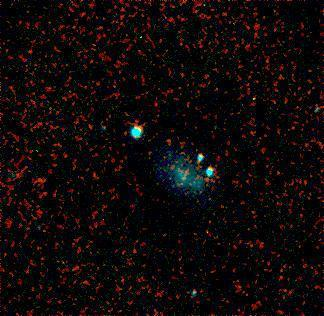star: (155, 160, 185, 190)
